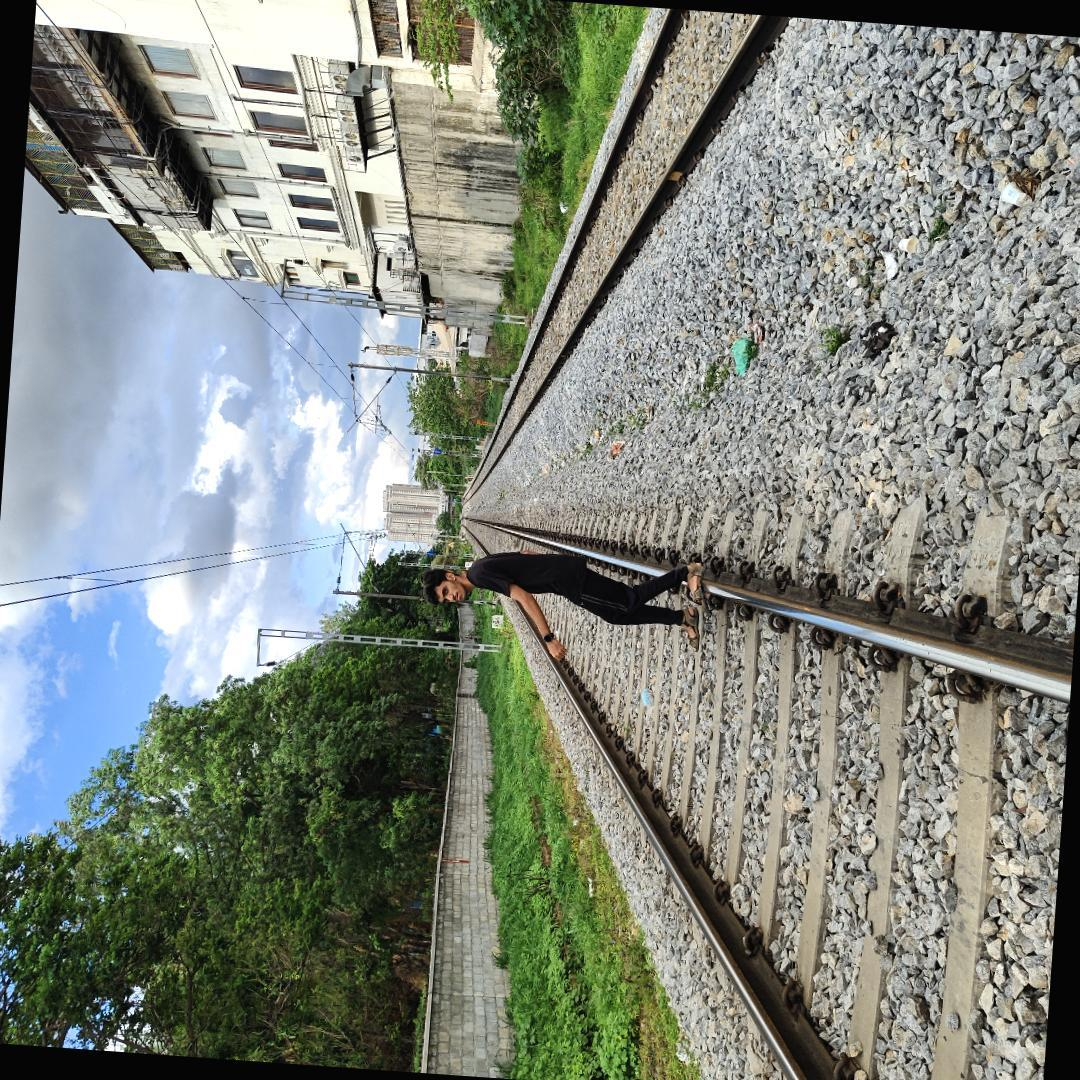standing: (411, 538, 720, 664)
